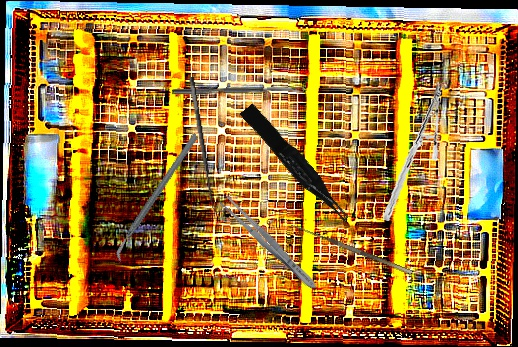Chopper: (82, 132, 232, 264)
Dressing Forceps: (217, 192, 321, 295)
Hook Surgical: (288, 222, 413, 281), (186, 74, 227, 216)
Needle Holder: (367, 81, 459, 222)
Surgical Spoon: (171, 86, 305, 96)
Tissue Forceps: (239, 99, 352, 230)
